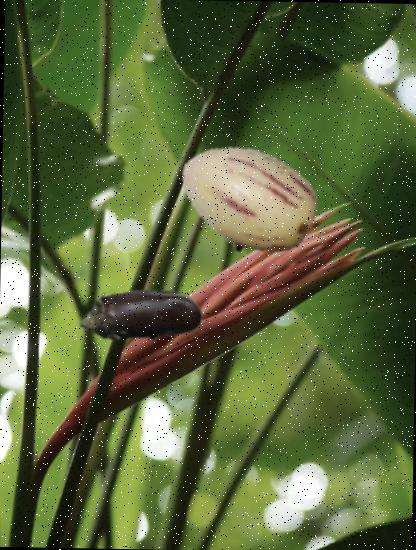Eggplant: (76, 250, 206, 381)
Pepino: (174, 129, 320, 274)
